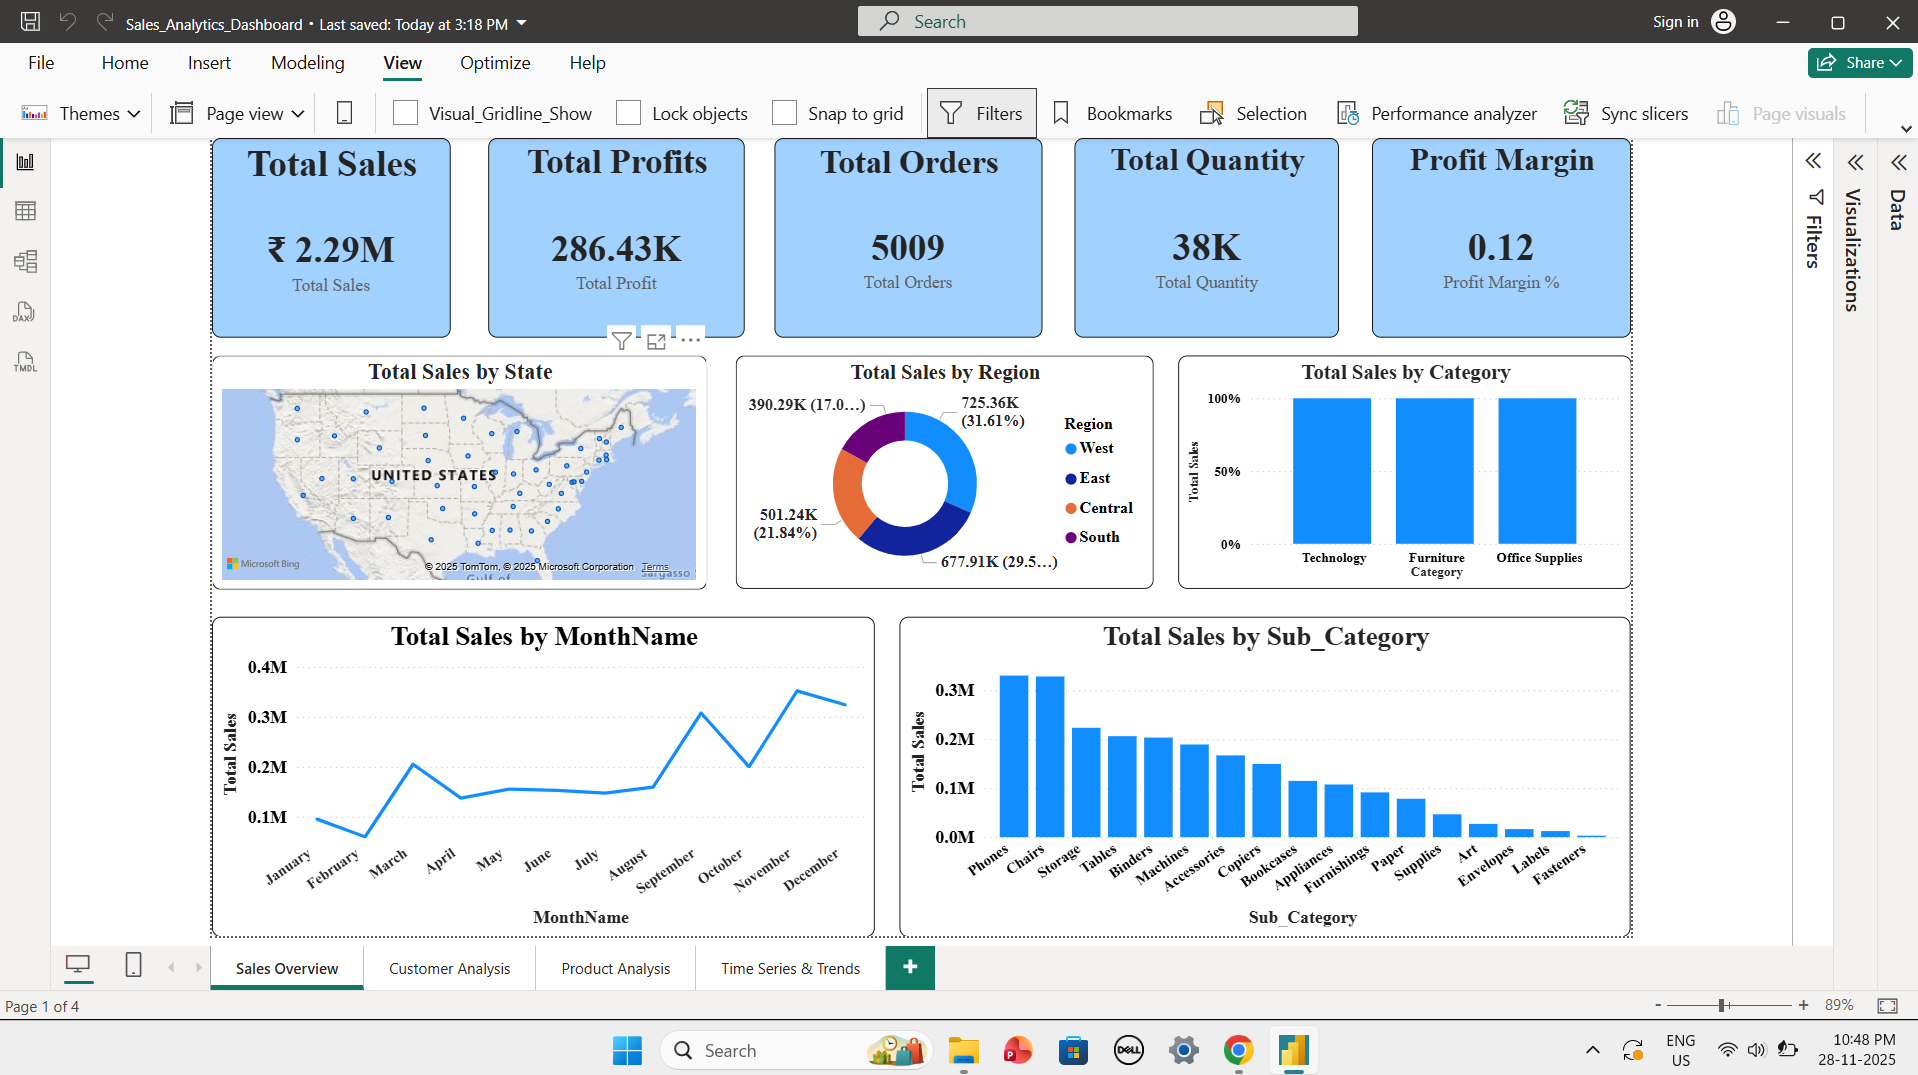

The page's visual inventory and layout, read from the dashboard file:
{"tool":"powerbi","page":{"name":"Sales Overview","canvas":[1280,720],"ordinal":0},"visuals":[{"type":"card","title":"    Total Sales","fields":{"Values":["_Measures.Total Sales"]},"box":[0,0,215,180],"z":0},{"type":"card","title":"Total Profits","fields":{"Values":["_Measures.Total Profit"]},"box":[249.1,0,231.1,180.3],"z":1000},{"type":"card","title":"Total Orders","fields":{"Values":["_Measures.Total Orders"]},"box":[507.5,0,241.2,180],"z":2000},{"type":"card","title":"Total Quantity","fields":{"Values":["_Measures.Total Quantity"]},"box":[777.5,0,238.8,180],"z":3000},{"type":"card","title":"Profit Margin","fields":{"Values":["_Measures.Profit Margin %"]},"box":[1046.2,0,233.8,180],"z":4000},{"type":"lineChart","fields":{"Y":["_Measures.Total Sales"],"Category":["DimDate.MonthName"]},"box":[0,431.7,597.4,288.5],"z":5000},{"type":"hundredPercentStackedColumnChart","fields":{"Category":["DimProduct.Category"],"Y":["_Measures.Total Sales"]},"box":[871.3,196.1,409.1,210.8],"z":6000},{"type":"columnChart","fields":{"Category":["DimProduct.Sub_Category"],"Y":["_Measures.Total Sales"]},"box":[619.9,431.7,659.4,288.5],"z":7000},{"type":"map","fields":{"Category":["DimRegion.State"]},"box":[0,196.2,446.2,211.2],"z":8000},{"type":"donutChart","fields":{"Category":["DimRegion.Region"],"Y":["_Measures.Total Sales"]},"box":[472.3,196.1,376.5,210.8],"z":9000}]}

Visuals, with their boxes on the page's 1280x720 design canvas (x1, y1, x2, y2). These are canvas units, not pixel positions in the 1918x1075 screenshot, which may show the page scaled, cropped or inside an application window:
"    Total Sales" card: region(0, 0, 215, 180)
"Total Profits" card: region(249, 0, 480, 180)
"Total Orders" card: region(508, 0, 749, 180)
"Total Quantity" card: region(778, 0, 1016, 180)
"Profit Margin" card: region(1046, 0, 1280, 180)
lineChart - _Measures.Total Sales x DimDate.MonthName: region(0, 432, 597, 720)
hundredPercentStackedColumnChart - DimProduct.Category x _Measures.Total Sales: region(871, 196, 1280, 407)
columnChart - DimProduct.Sub_Category x _Measures.Total Sales: region(620, 432, 1279, 720)
map - DimRegion.State: region(0, 196, 446, 407)
donutChart - DimRegion.Region x _Measures.Total Sales: region(472, 196, 849, 407)
